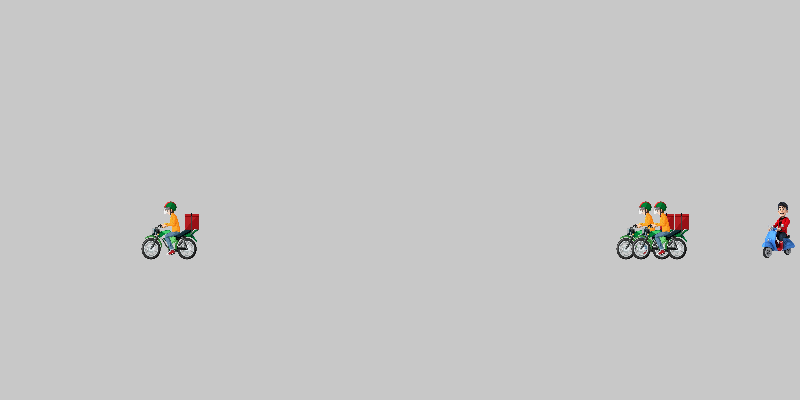helmet: (140, 200, 200, 260), (615, 200, 675, 260), (630, 200, 690, 260)
no_helmet: (750, 200, 800, 260)
